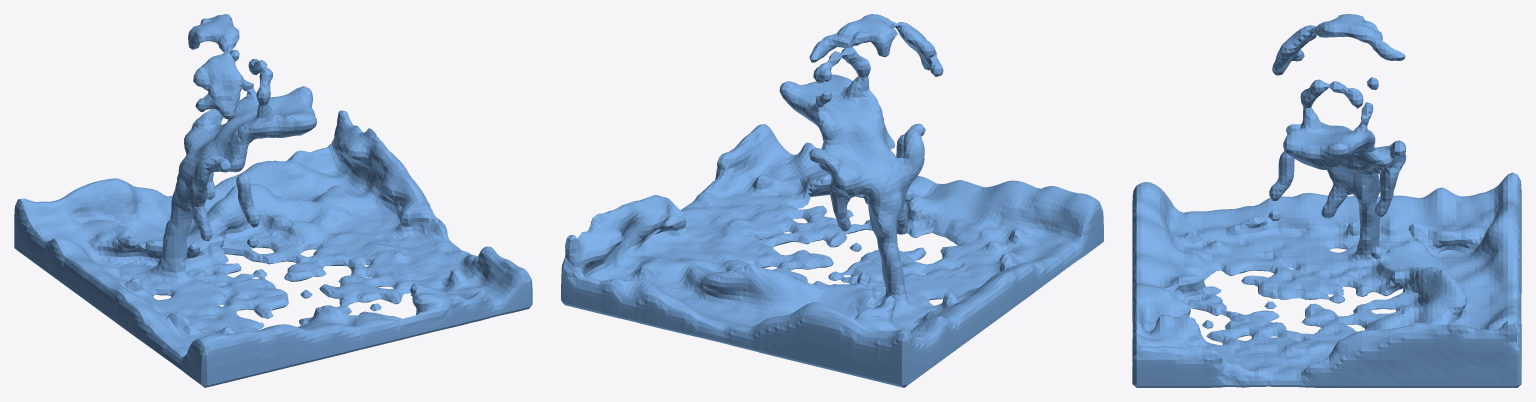
The model's file is water_0087.glb.
3 renders of one model, left to right at view 1: azimuth 30°, elevation 25°; view 2: azimuth 150°, elevation 25°; view 3: azimuth 270°, elevation 25°, orthographic. The views are drawn at different scales.
Visible parts, largest first — view 1: Water_0087; view 2: Water_0087; view 3: Water_0087.
Boxes of the visible parts, x1,y1,x2,y2 form: Water_0087: [14, 14, 532, 387]; Water_0087: [561, 14, 1103, 387]; Water_0087: [1132, 14, 1521, 387].
Size of the model in its own units: 4.83 by 3.62 by 4.83.
